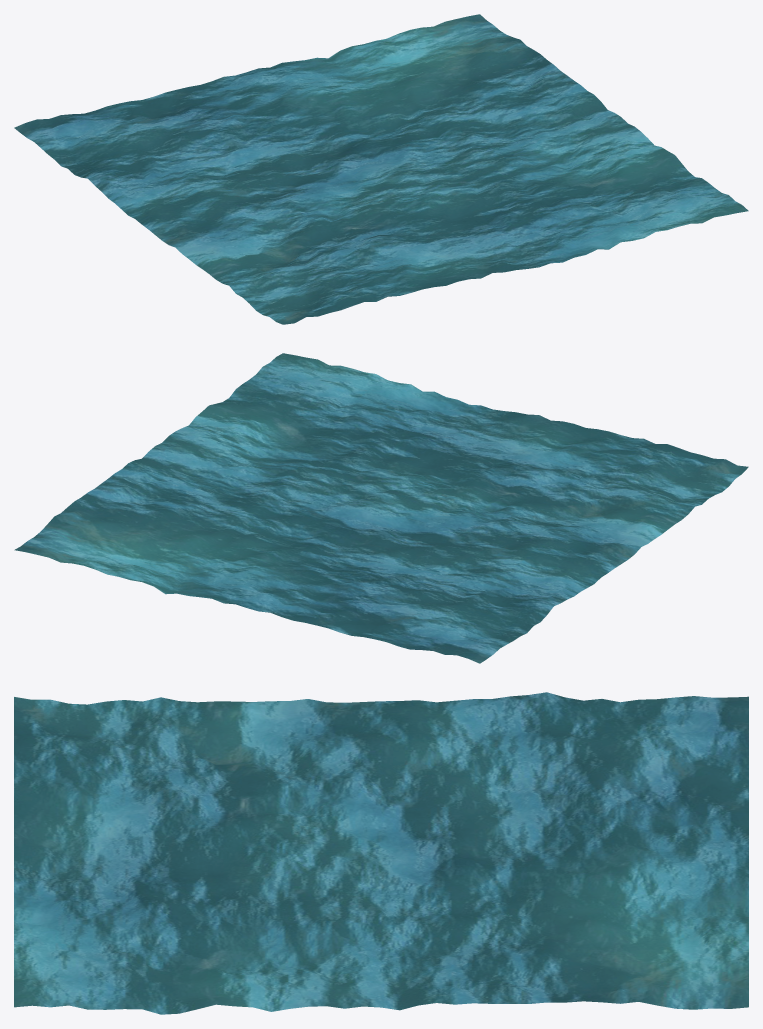
The model's file is Water_Animation.obj.
The picture shows the model from 3 angles, top to bottom: view 1: azimuth 30°, elevation 25°; view 2: azimuth 150°, elevation 25°; view 3: azimuth 270°, elevation 25°; orthographic projection. The views are drawn at different scales.
Parts seen in each view (by area): view 1: low; view 2: low; view 3: low.
Boxes of the visible parts, x1,y1,x2,y2 form: low: [14, 14, 748, 324]; low: [14, 353, 748, 663]; low: [14, 692, 748, 1014].
Size of the model in its own units: 100 by 3.16 by 100.
1 material, 1 textured.
